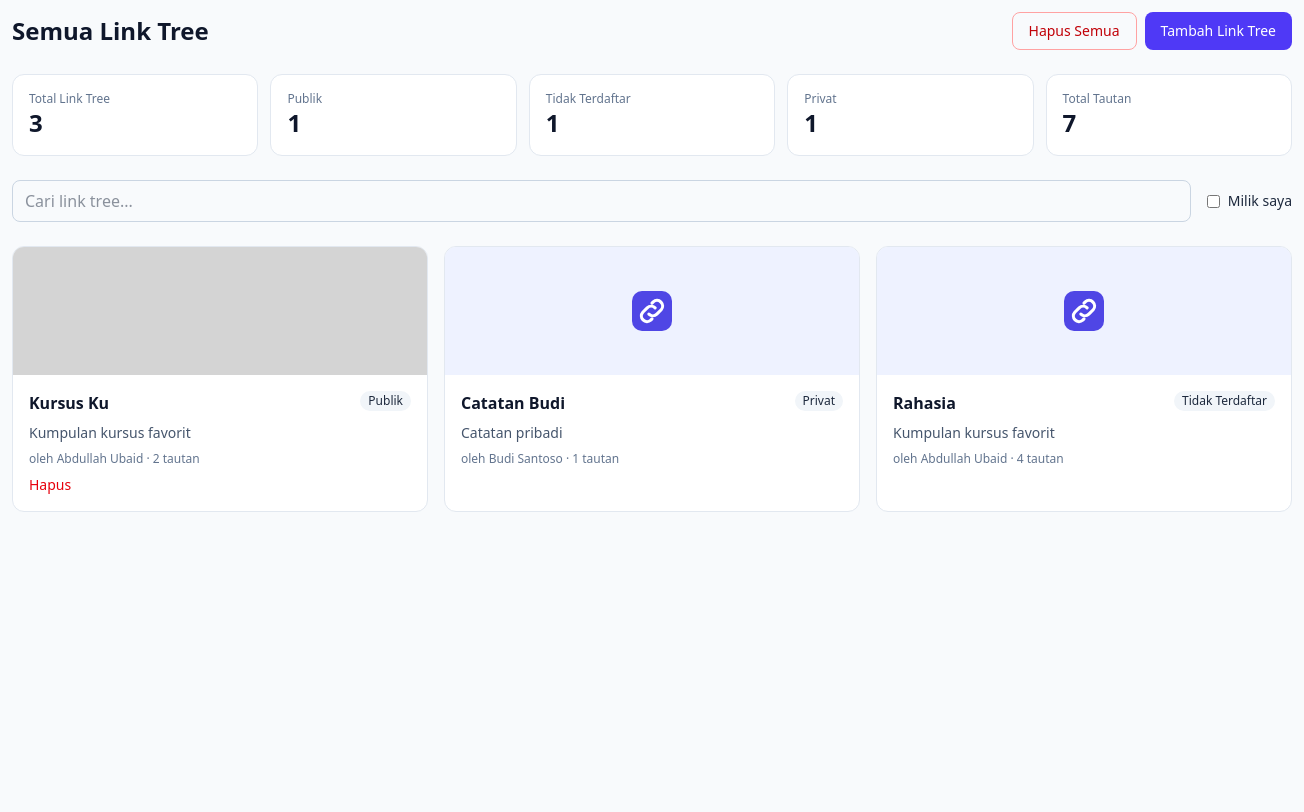
it: HomePage › menghapus semua link tree: batal, gagal, dan berhasil
Expected: the link "Catatan Budi" is shown, [461,391,565,415]
What coordinates should you click on to do the following:
click the button "Hapus Semua"
I would click on:
 (1074, 31)
Its box is [1012,12,1136,50].
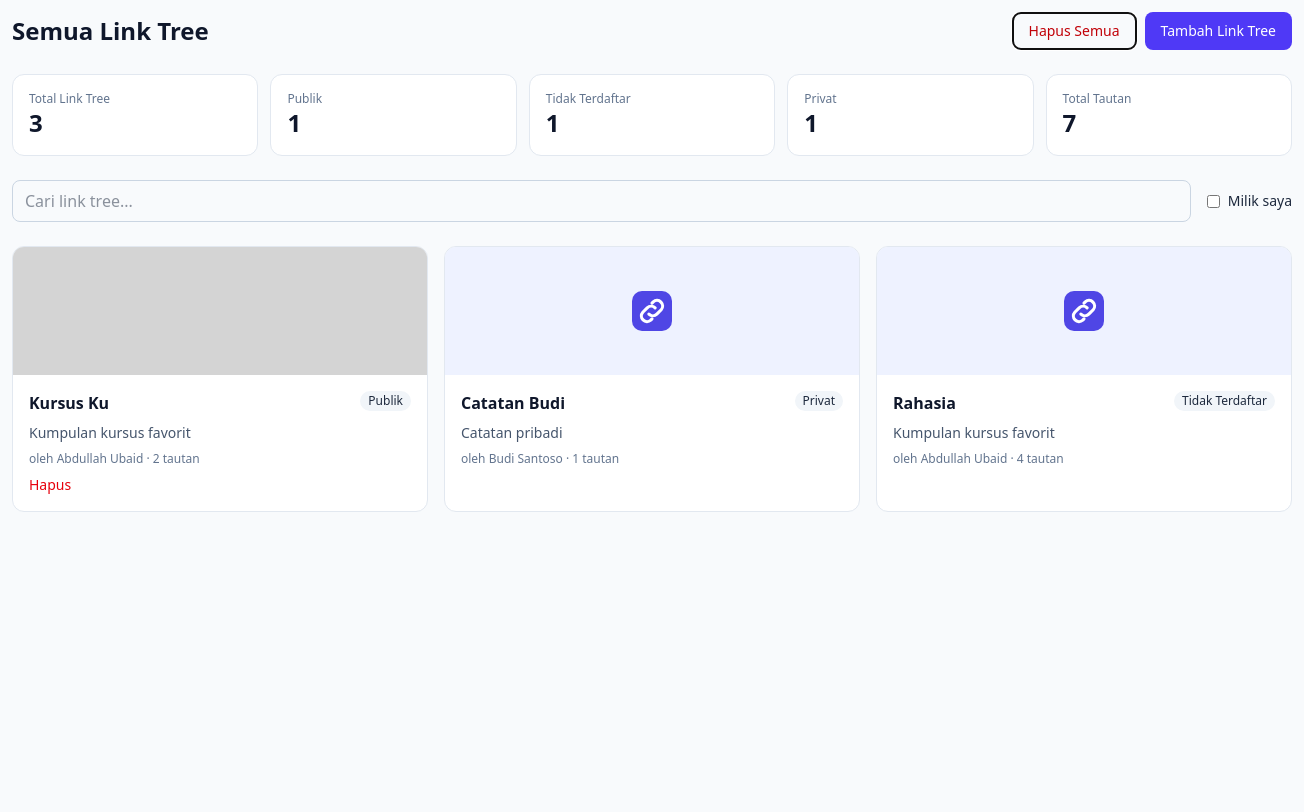
What coordinates should you click on to do the following:
click the button "Hapus Semua"
I would click on:
 (1074, 31)
Its box is [1012,12,1136,50].
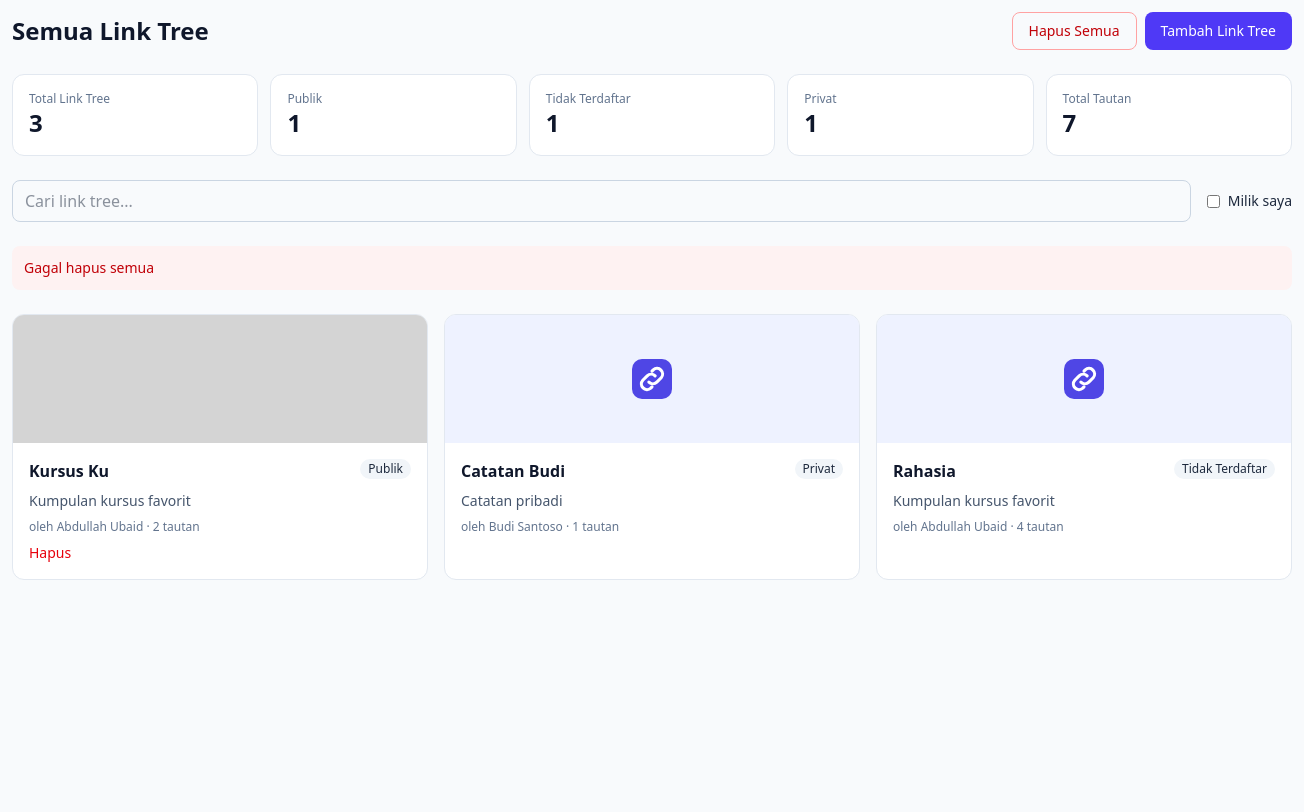
Expected: the message reads "Gagal hapus semua", [24,258,154,277]
What coordinates should you click on to do the following:
click the button "Hapus Semua"
I would click on:
 (1074, 31)
Its box is [1012,12,1136,50].
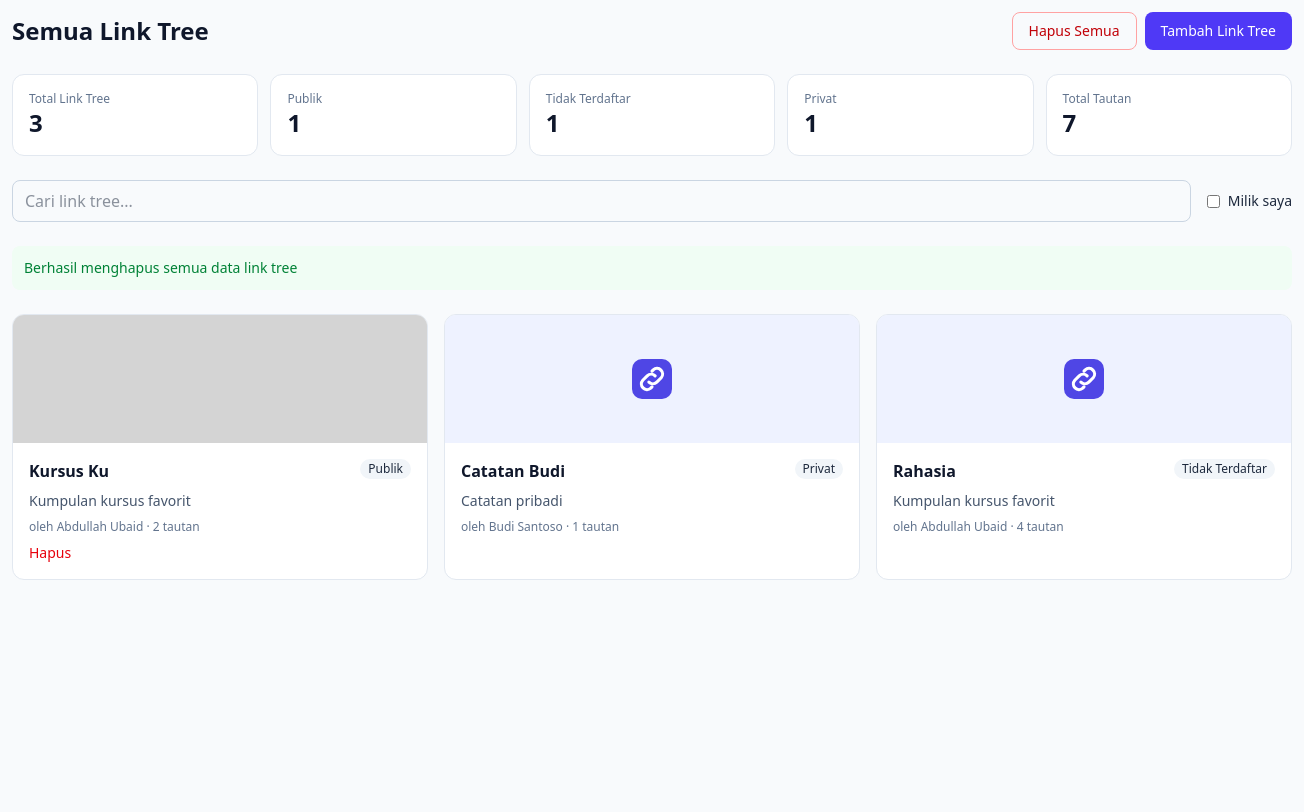
Expected: the message reads "Berhasil menghapus semua data link tree", [24,258,297,277]
